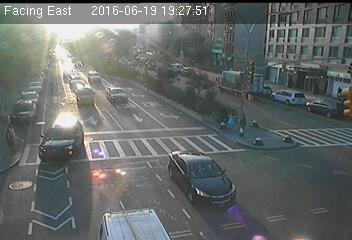neg: (114, 106, 141, 142), (63, 181, 89, 216), (216, 191, 240, 224), (143, 166, 166, 198), (294, 163, 316, 192), (308, 29, 329, 57), (193, 149, 213, 176), (84, 61, 103, 87), (51, 93, 70, 118), (154, 56, 173, 80), (247, 44, 265, 68), (250, 129, 267, 151), (42, 35, 58, 57), (59, 134, 75, 155), (207, 51, 222, 71), (29, 174, 44, 193), (294, 92, 307, 109)
pos: (4, 118, 26, 147), (225, 107, 240, 128)
